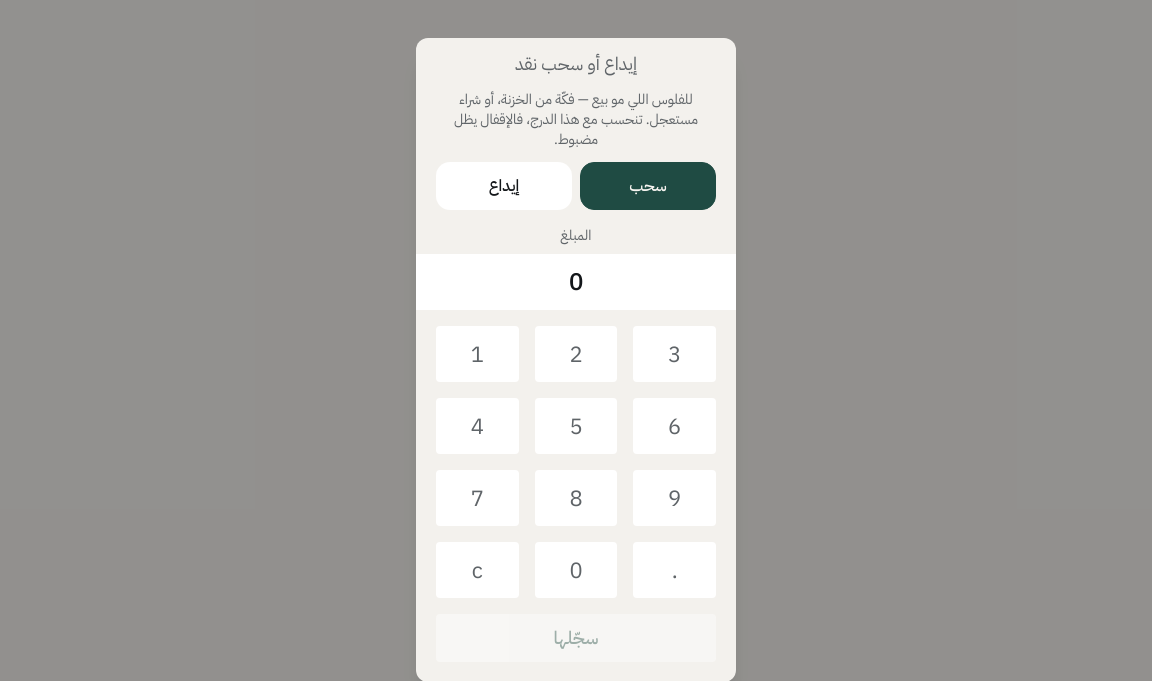
it: moving notes in and out of the drawer › shows the server's refusal rather than a guess of its own
What coordinates should you click on to do the following:
click the button "1"
I would click on:
 (477, 354)
Its box is [436, 326, 519, 382].
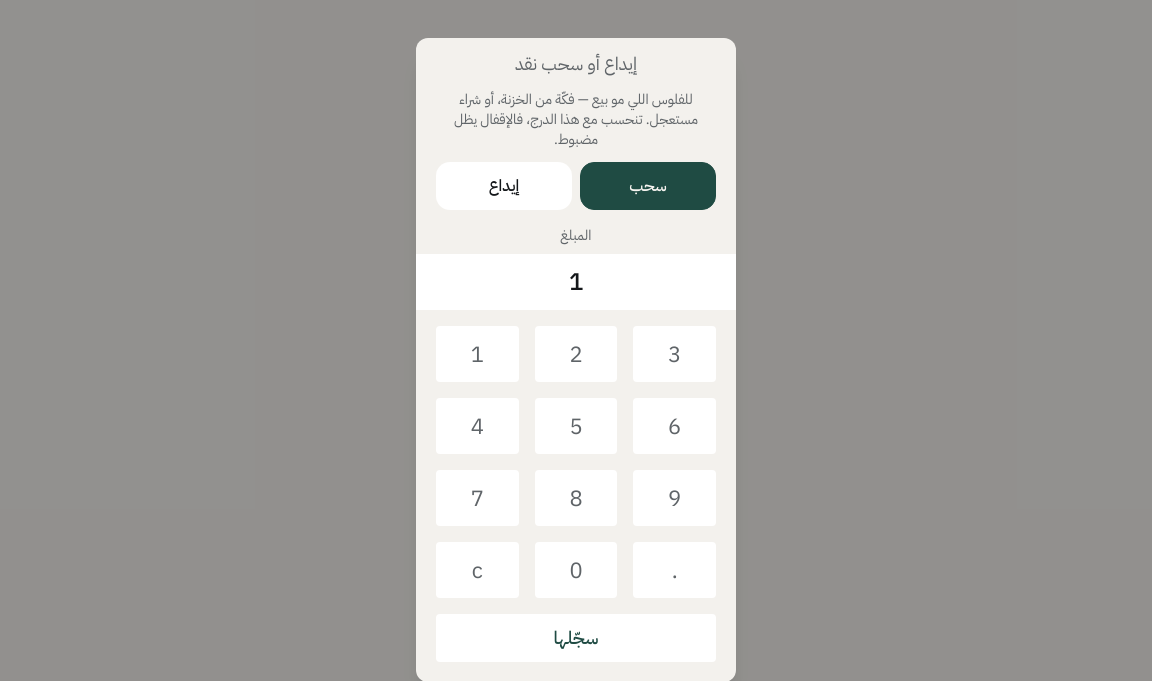
What coordinates should you click on to do the following:
click the button "0"
I would click on:
 (576, 570)
Its box is [535, 542, 617, 598].
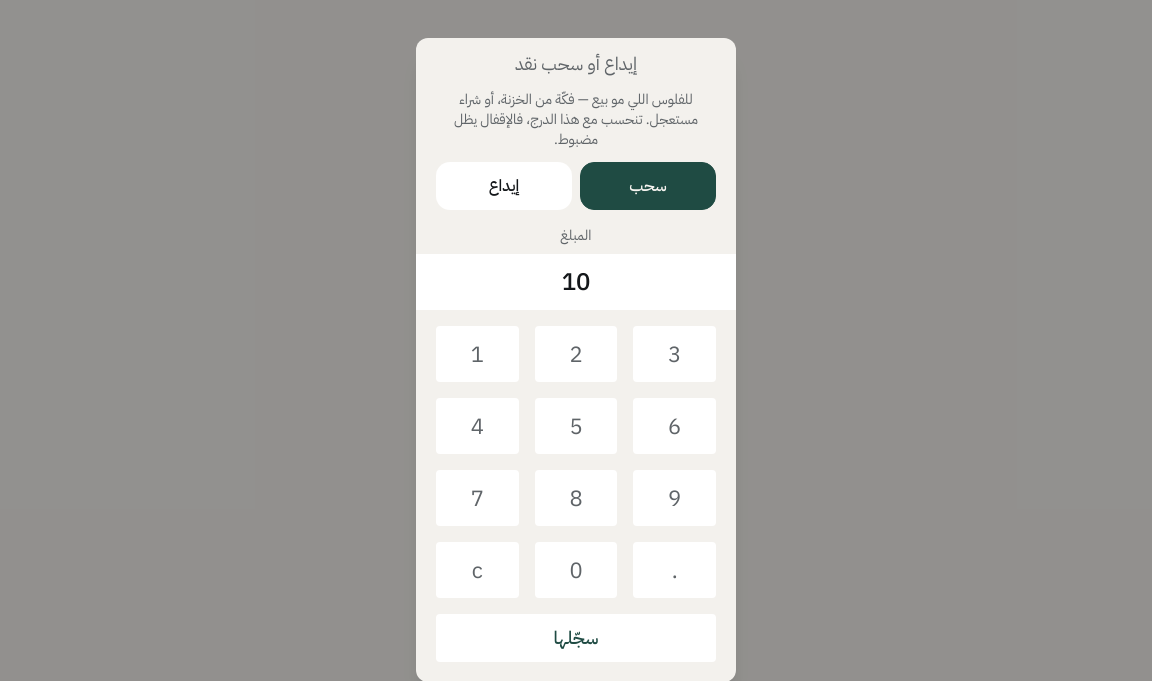
What coordinates should you click on to do the following:
click the button "سجّلها"
I would click on:
 (576, 638)
Its box is [436, 614, 716, 662].
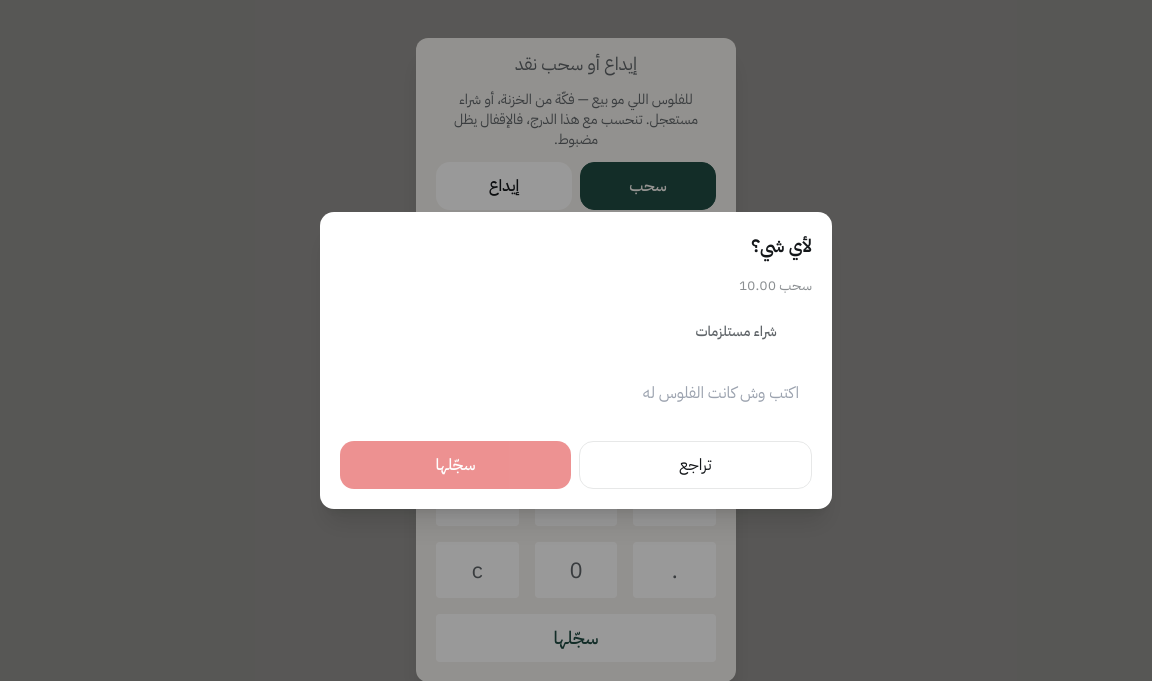
What coordinates should you click on to do the following:
click the button "شراء مستلزمات"
I would click on:
 (736, 332)
Its box is [660, 308, 812, 356].
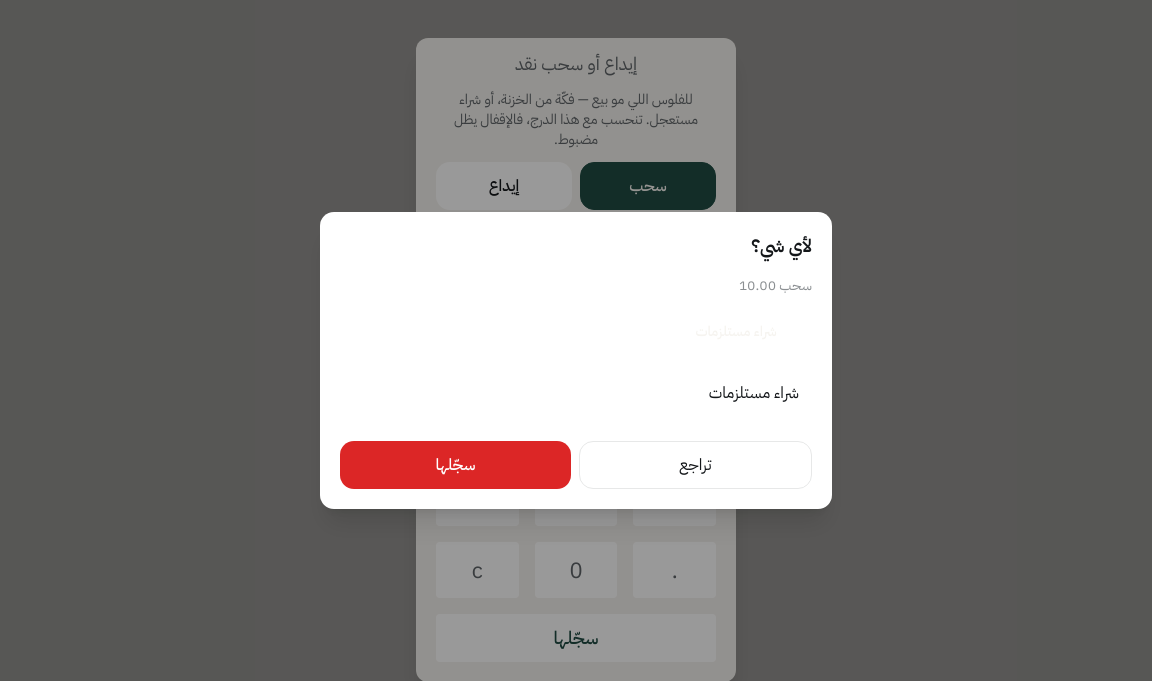
What coordinates should you click on to do the following:
click the button "سجّلها" below "سحب 10.00"
I would click on:
 (456, 464)
Its box is [340, 440, 571, 488].
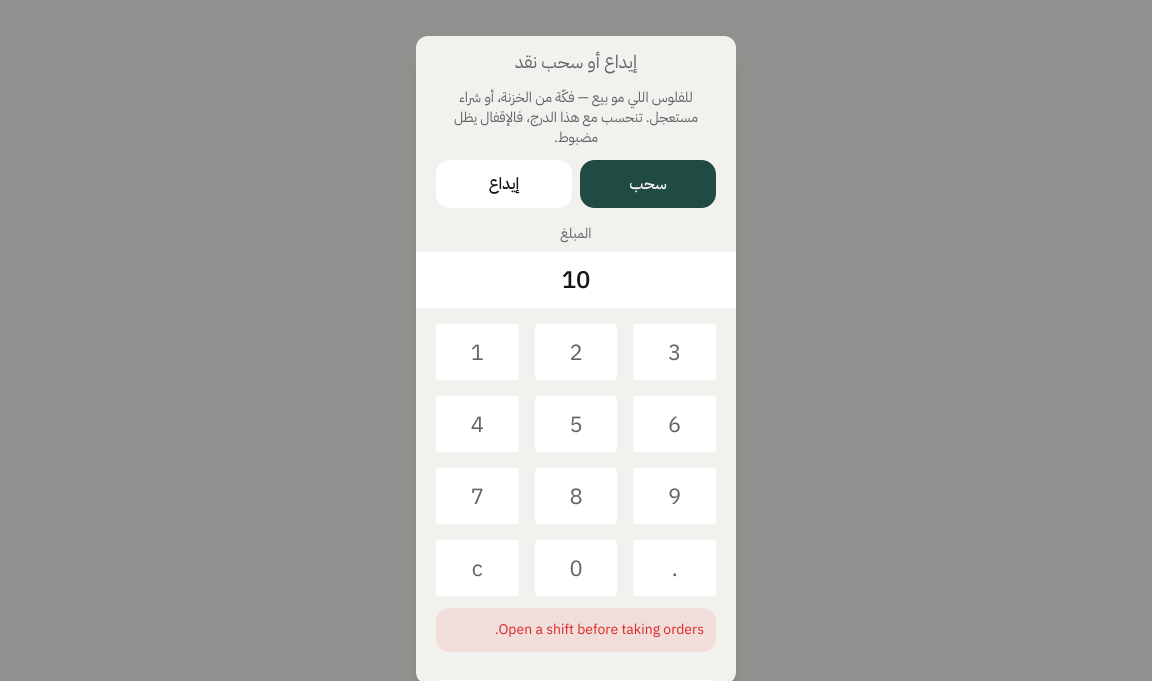
Check: the text "Open a shift" is shown, box [495, 619, 704, 640]
